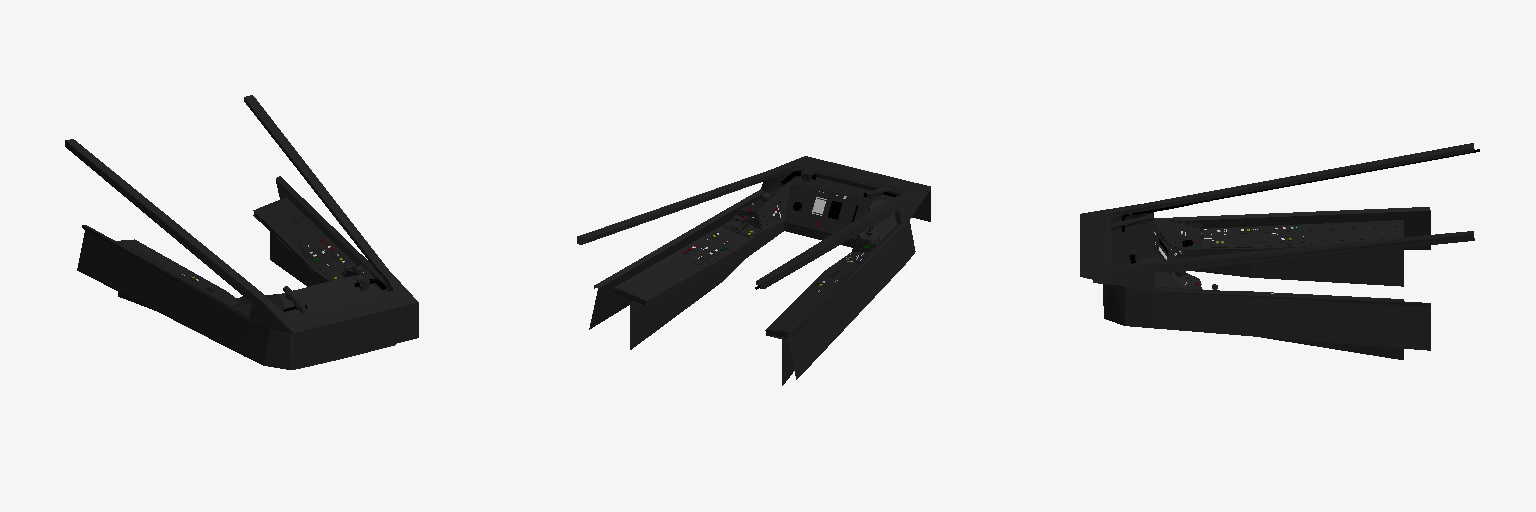
The model's file is X-Wing4.obj.
3 renders of one model, left to right at view 1: azimuth 30°, elevation 25°; view 2: azimuth 150°, elevation 25°; view 3: azimuth 270°, elevation 25°, orthographic.
Parts seen in each view (by area): view 1: Cockpit_CentralSection.008; view 2: Cockpit_CentralSection.008; view 3: Cockpit_CentralSection.008.
Part boxes in pixels (x1,y1,x2,y2): Cockpit_CentralSection.008: (65, 95, 418, 369); Cockpit_CentralSection.008: (577, 156, 930, 385); Cockpit_CentralSection.008: (1080, 143, 1479, 359).
Size of the model in its own units: 133 by 82.94 by 223.